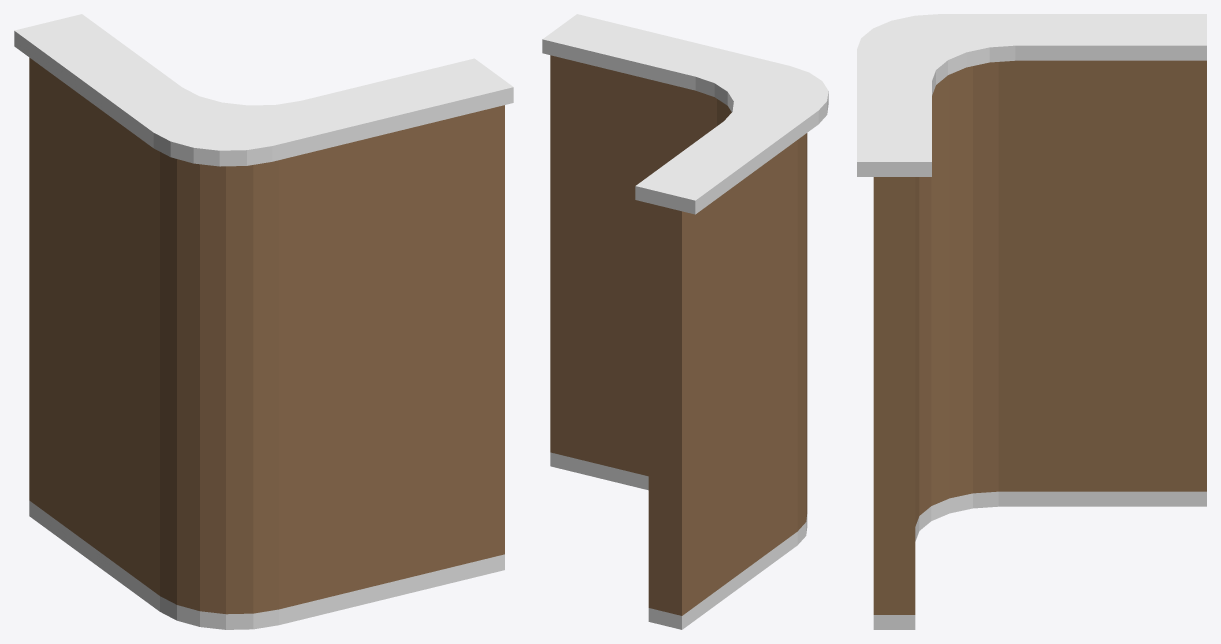
The model's file is SM_200x300_Wall_CurveCorner.fbx.
3 renders of one model, left to right at view 1: azimuth 30°, elevation 25°; view 2: azimuth 150°, elevation 25°; view 3: azimuth 270°, elevation 25°, orthographic. The views are drawn at different scales.
Visible parts, largest first — view 1: SM_200x300_BasicWall_CurveCorner; view 2: SM_200x300_BasicWall_CurveCorner; view 3: SM_200x300_BasicWall_CurveCorner.
Part boxes in pixels (<box>): SM_200x300_BasicWall_CurveCorner: <box>14,14,513,629</box>; SM_200x300_BasicWall_CurveCorner: <box>542,14,828,629</box>; SM_200x300_BasicWall_CurveCorner: <box>857,14,1206,629</box>.
Size of what is drawn, in the model's own units: 210 by 210 by 310.
